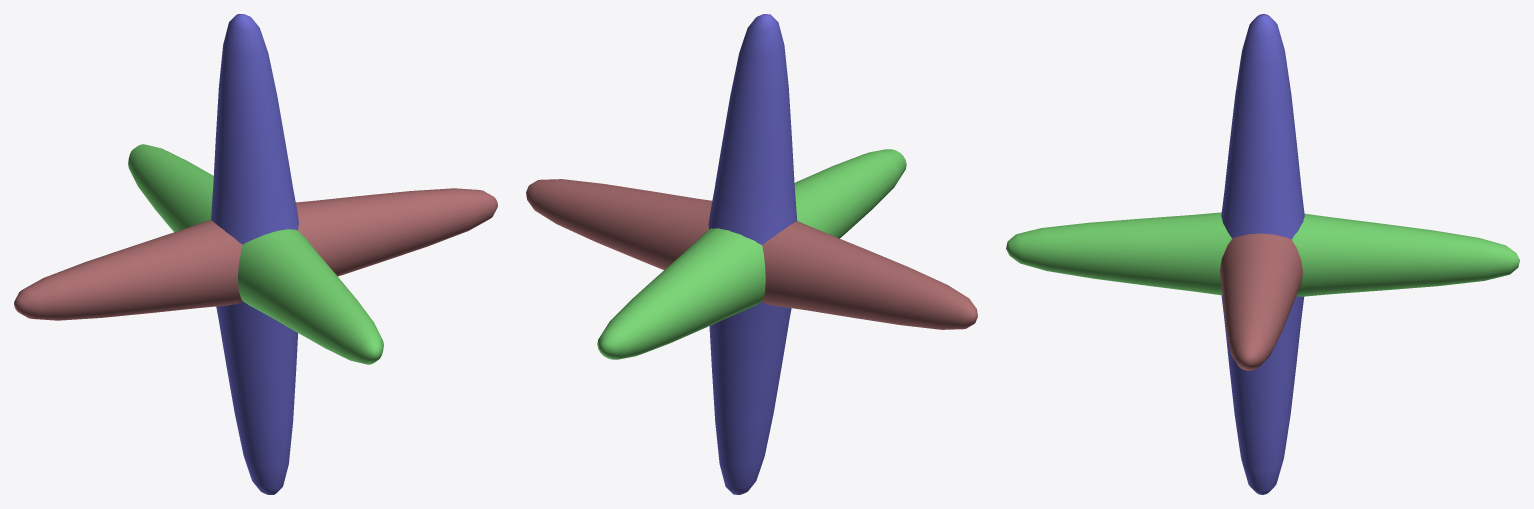
The model's file is xyzCross-three-submeshes.fbx.
3 renders of one model, left to right at view 1: azimuth 30°, elevation 25°; view 2: azimuth 150°, elevation 25°; view 3: azimuth 270°, elevation 25°, orthographic. The views are drawn at different scales.
Visible parts, largest first — view 1: pSphere1, pSphere3, pSphere2; view 2: pSphere3, pSphere1, pSphere2; view 3: pSphere2, pSphere3, pSphere1.
Part boxes in pixels (box(x1,y1,x2,y2)): pSphere1: box(14, 188, 497, 320); pSphere3: box(211, 14, 298, 494); pSphere2: box(128, 144, 383, 364); pSphere3: box(708, 14, 797, 494); pSphere1: box(526, 179, 977, 329); pSphere2: box(597, 149, 906, 359); pSphere2: box(1006, 212, 1519, 296); pSphere3: box(1221, 14, 1304, 494); pSphere1: box(1219, 233, 1302, 370).
Size of the model in its own units: 1076 by 1076 by 1076.
